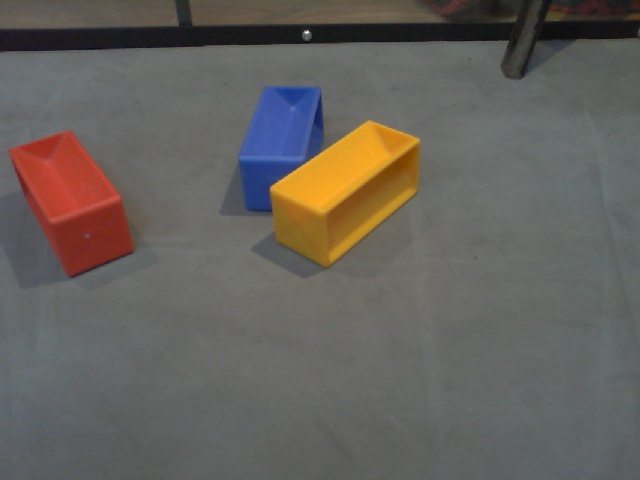BlueSample: (235, 80, 324, 216)
RedSample: (6, 125, 137, 284)
YellowSample: (269, 116, 422, 270)
